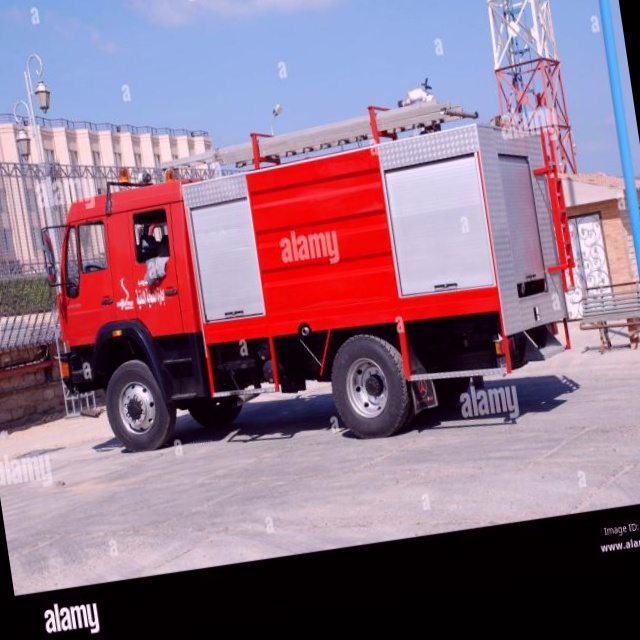Fire-truck: (25, 72, 587, 483)
